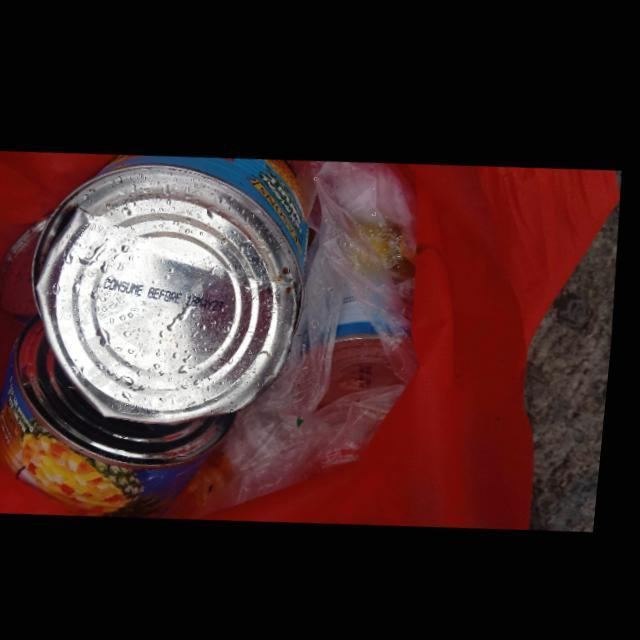metal: (35, 153, 313, 419), (0, 314, 243, 516)
plastic: (170, 156, 421, 517)
